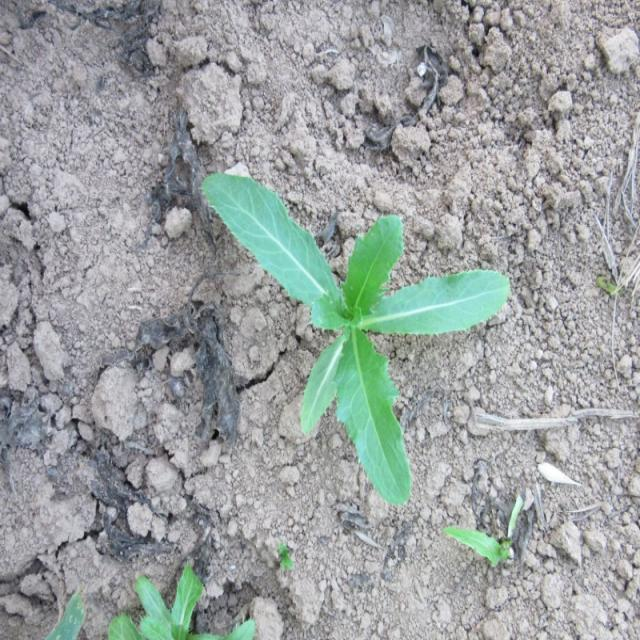cs: (199, 168, 513, 507)
